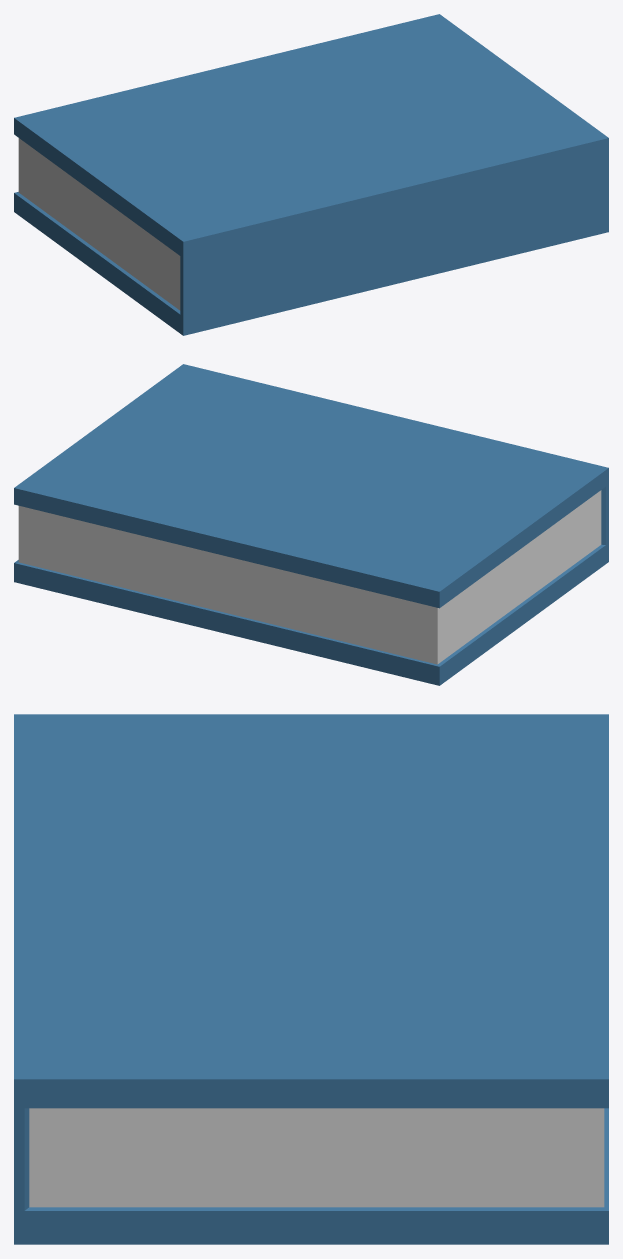
File: H_Book_Closed.fbx
3 views of the same model, one above another, from view 1: azimuth 30°, elevation 25°; view 2: azimuth 150°, elevation 25°; view 3: azimuth 270°, elevation 25° (orthographic). The views are drawn at different scales.
Parts seen in each view (by area): view 1: H_Book_Closed; view 2: H_Book_Closed; view 3: H_Book_Closed.
Boxes of the visible parts, x1,y1,x2,y2 form: H_Book_Closed: [14, 14, 608, 335]; H_Book_Closed: [14, 364, 608, 685]; H_Book_Closed: [14, 714, 608, 1244].
Size of the model in its own units: 172 by 119 by 36.42.
